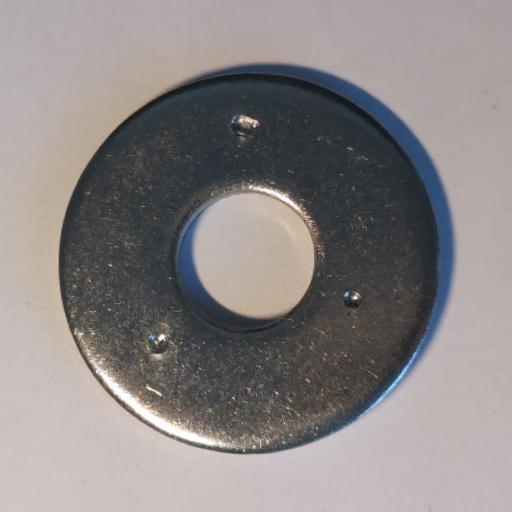circular_cavity: (230, 113, 260, 136), (148, 333, 169, 353), (342, 290, 362, 308)
